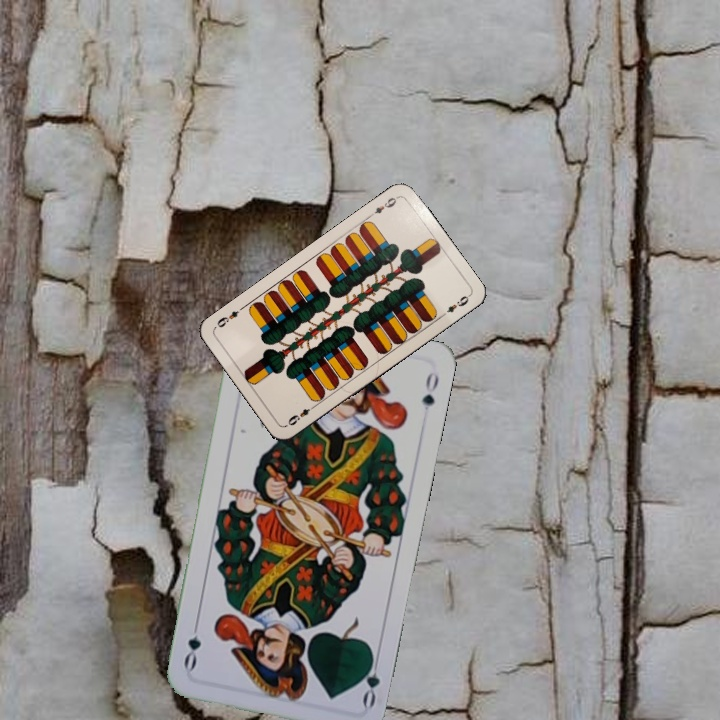E9: (365, 192, 401, 220), (283, 401, 318, 428)
GO: (356, 649, 383, 710)
